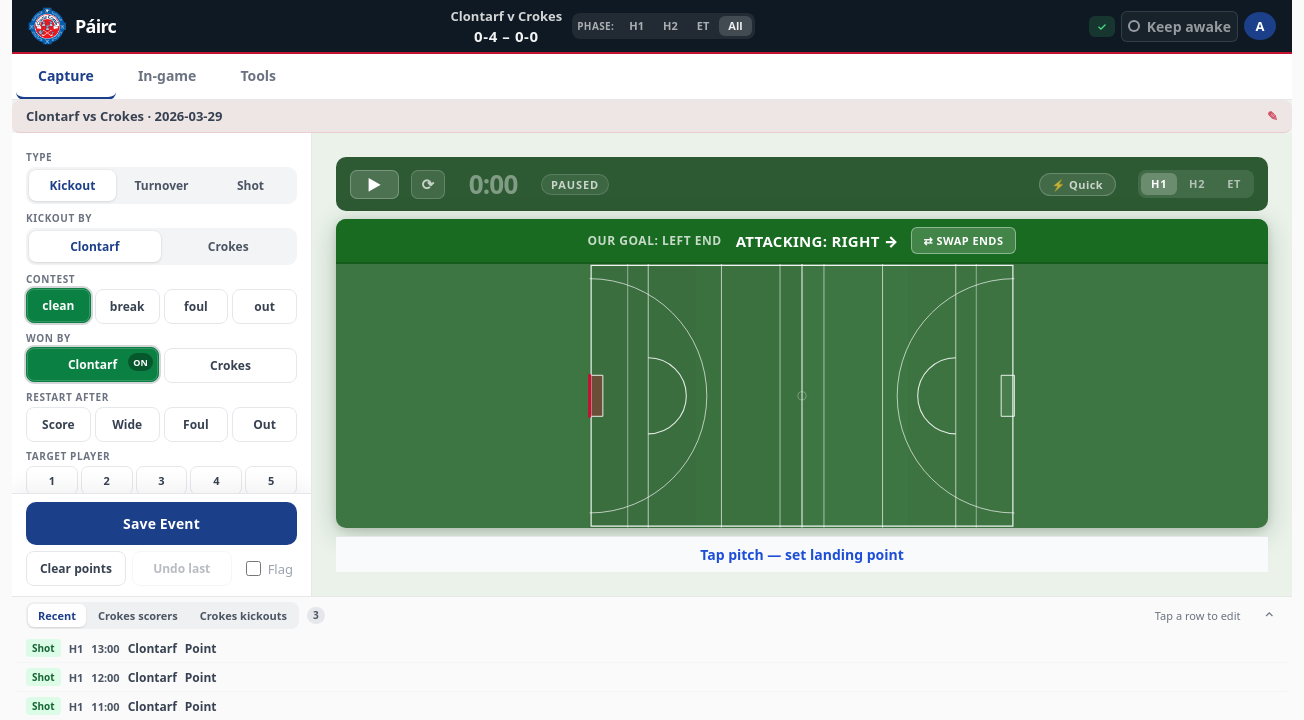
App shell auth and sync › recent events strip › collapses and expands the list, and remembers the choice
Expected: the number of buttons with class "recent-event-row" is 3, [12,634,1292,663]; [12,663,1292,692]; [12,692,1292,719]
Click the button with class "re-toggle" at (1269, 616), box [1256,604,1282,626]
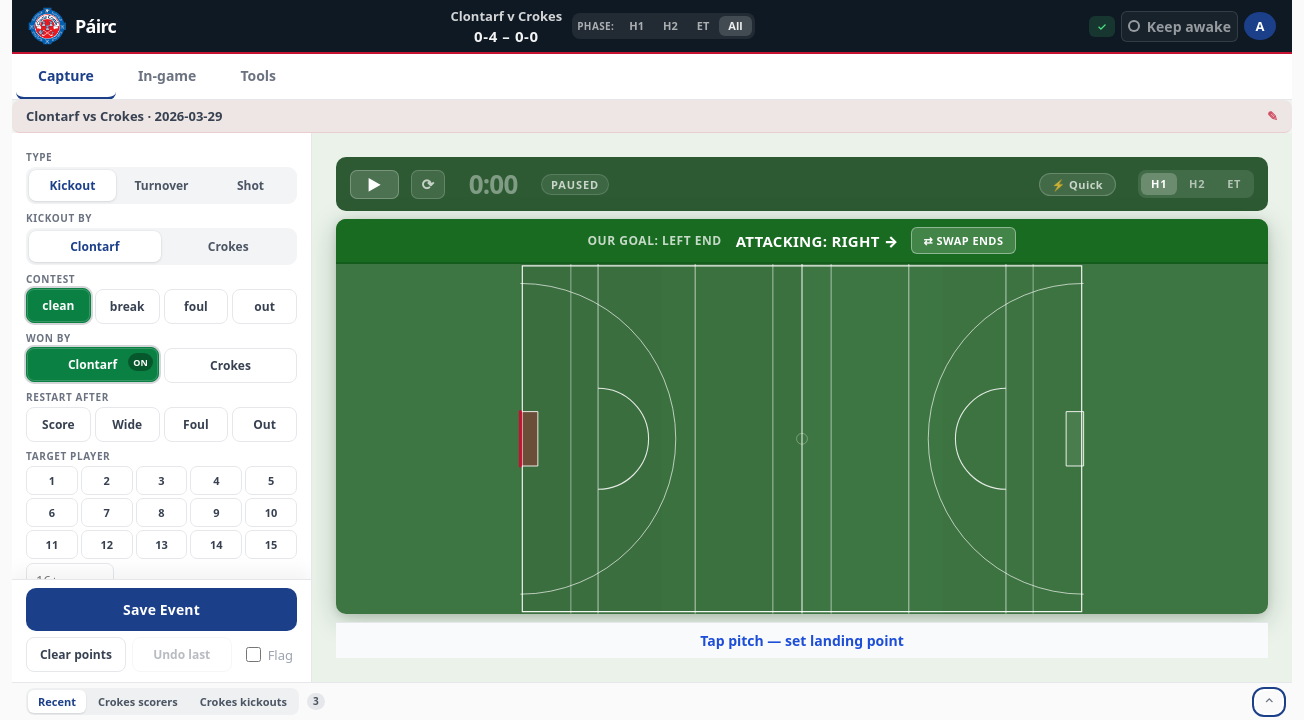
Expected: no buttons with class "recent-event-row" are shown
Expected: the button with class "re-toggle" is collapsed
Click the button with class "re-toggle" at (1269, 702), box [1256,690,1282,712]
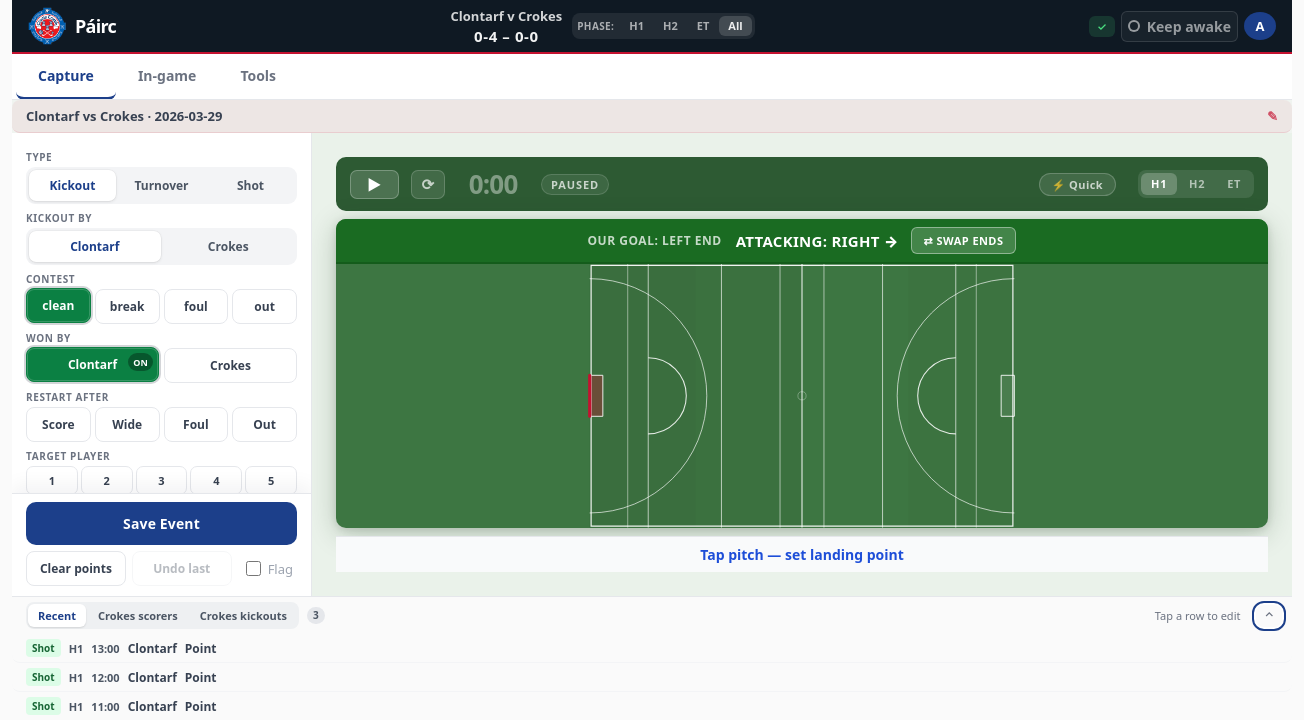
Expected: the number of buttons with class "recent-event-row" is 3, [12,634,1292,663]; [12,663,1292,692]; [12,692,1292,719]
